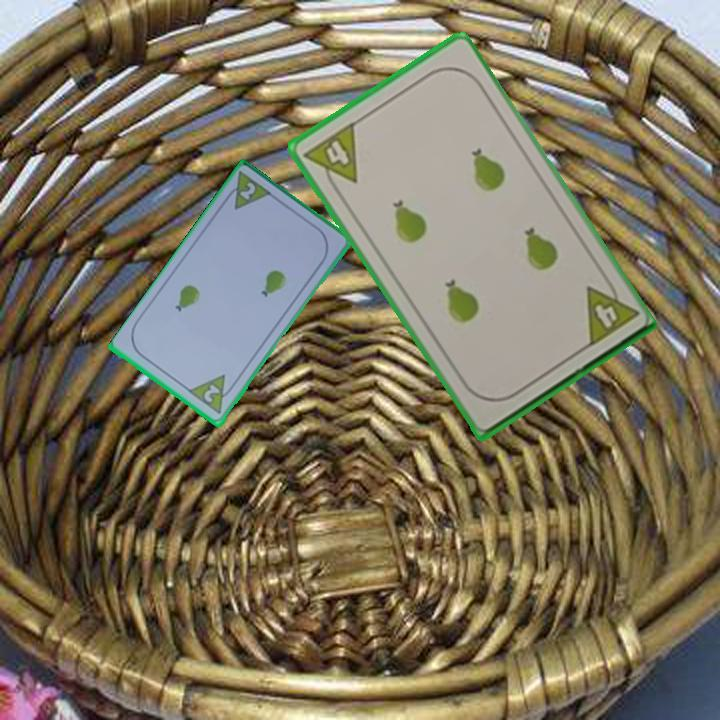2p: (200, 381, 223, 406), (236, 179, 259, 204)
4p: (300, 118, 361, 197), (581, 273, 641, 351)
